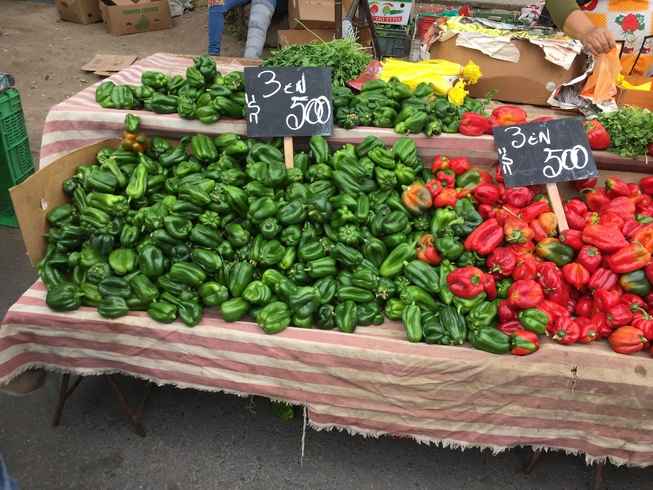precio: (490, 111, 607, 197), (240, 59, 337, 144)
